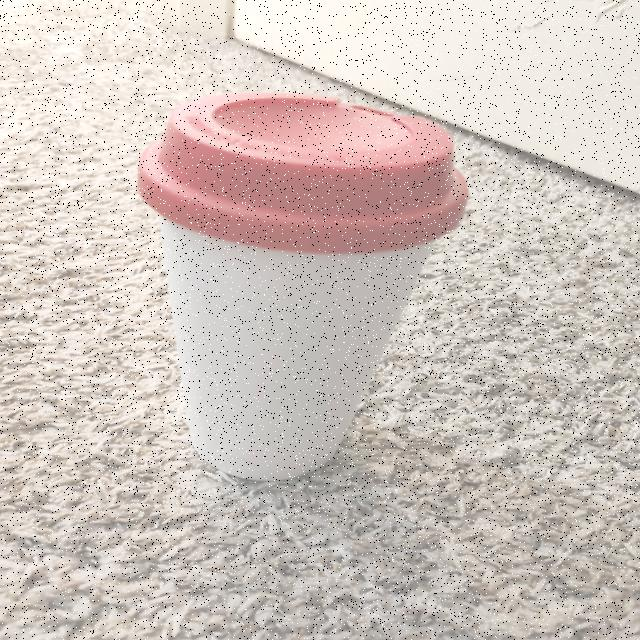mug: (140, 97, 458, 475)
